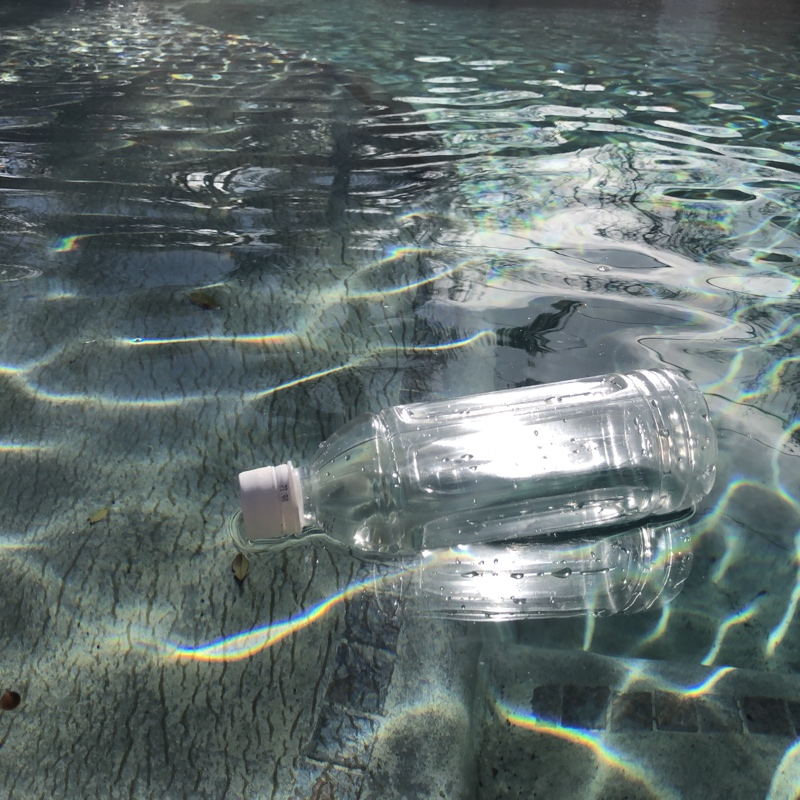Plastic Bottle: (237, 365, 722, 571)
